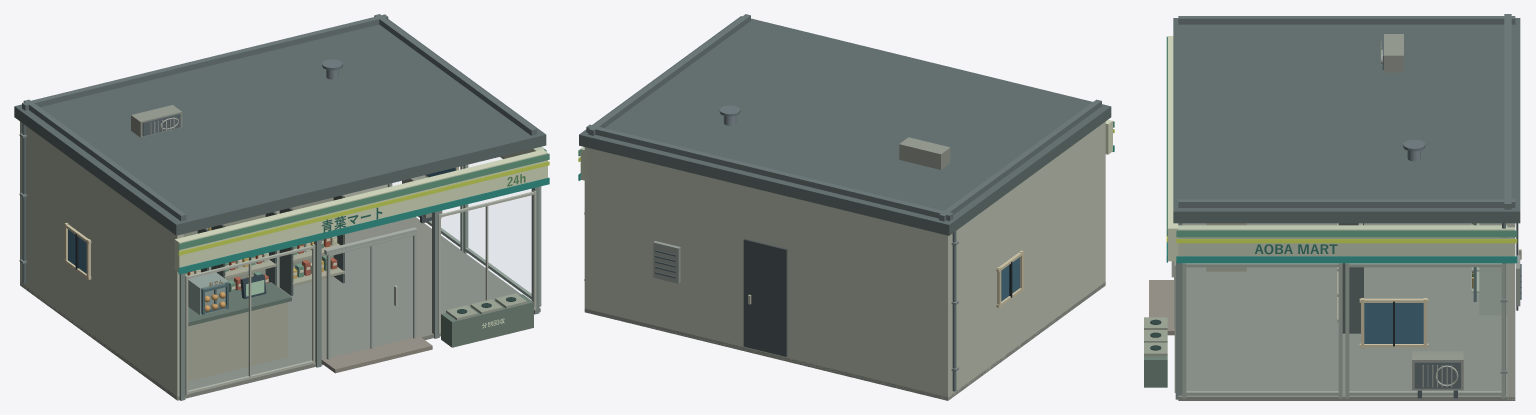
Rendered from convenience.glb.
3 renders of one model, left to right at view 1: azimuth 30°, elevation 25°; view 2: azimuth 150°, elevation 25°; view 3: azimuth 270°, elevation 25°, orthographic. The views are drawn at different scales.
Visible parts, largest first — view 1: 青葉便利店, 商品棚 (×2), 室外空调机; view 2: 青葉便利店, 室外空调机; view 3: 青葉便利店, 室外空调机 (×2), 商品棚.
Boxes of the visible parts, <box> form: 青葉便利店: <box>14,14,549,400</box>; 商品棚 (×2): <box>211,195,344,295</box>; 室外空调机: <box>131,105,182,137</box>; 青葉便利店: <box>578,14,1114,400</box>; 室外空调机: <box>899,137,950,169</box>; 青葉便利店: <box>1144,14,1521,400</box>; 室外空调机 (×2): <box>1380,34,1463,398</box>; 商品棚: <box>1337,223,1363,333</box>.
Size of the model in its own units: 8.38 by 4.09 by 6.73.
64 materials, 5 textured.
